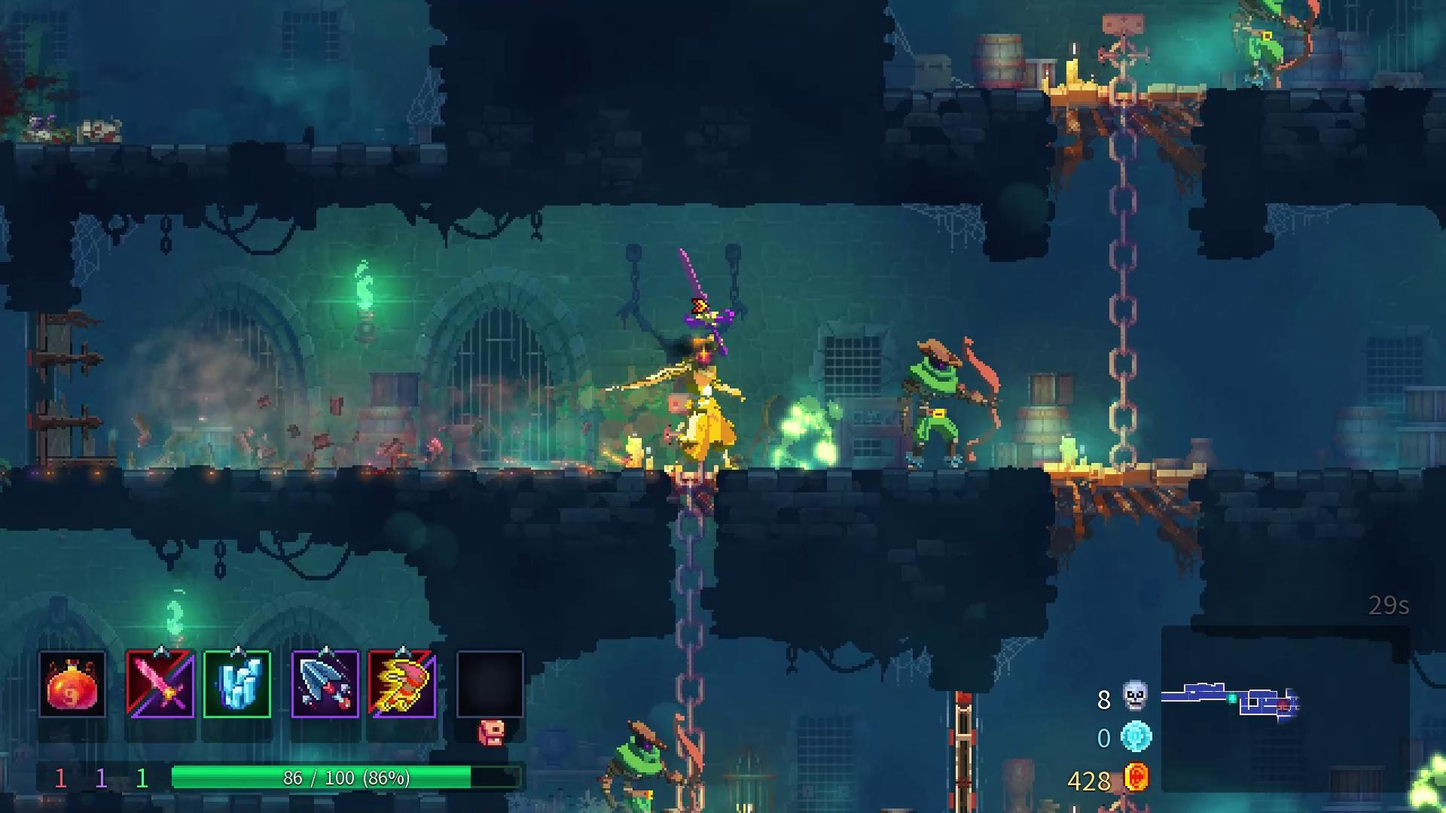gamer: (622, 329, 750, 468)
